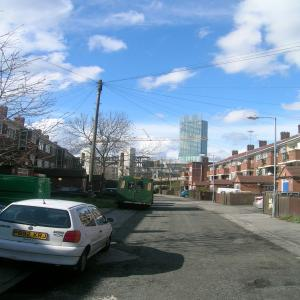Vehicle-registration-plate: (12, 230, 49, 242)
